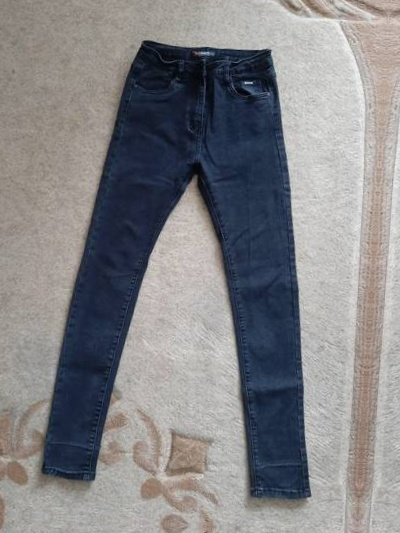Pants: (13, 33, 342, 509)
